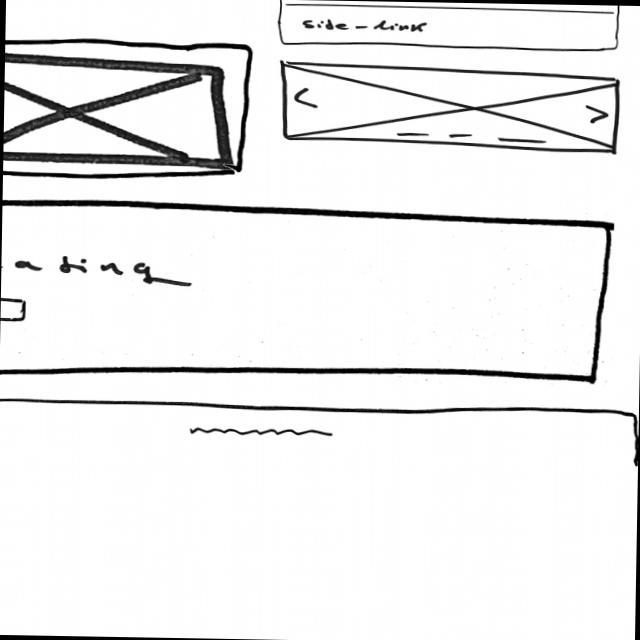container: (1, 199, 612, 385), (4, 39, 256, 183), (276, 1, 623, 53)
icon-button: (1, 298, 28, 323)
image: (279, 61, 623, 154), (4, 52, 233, 169)
label: (2, 249, 193, 287), (299, 18, 430, 33)
text: (185, 426, 338, 442)
